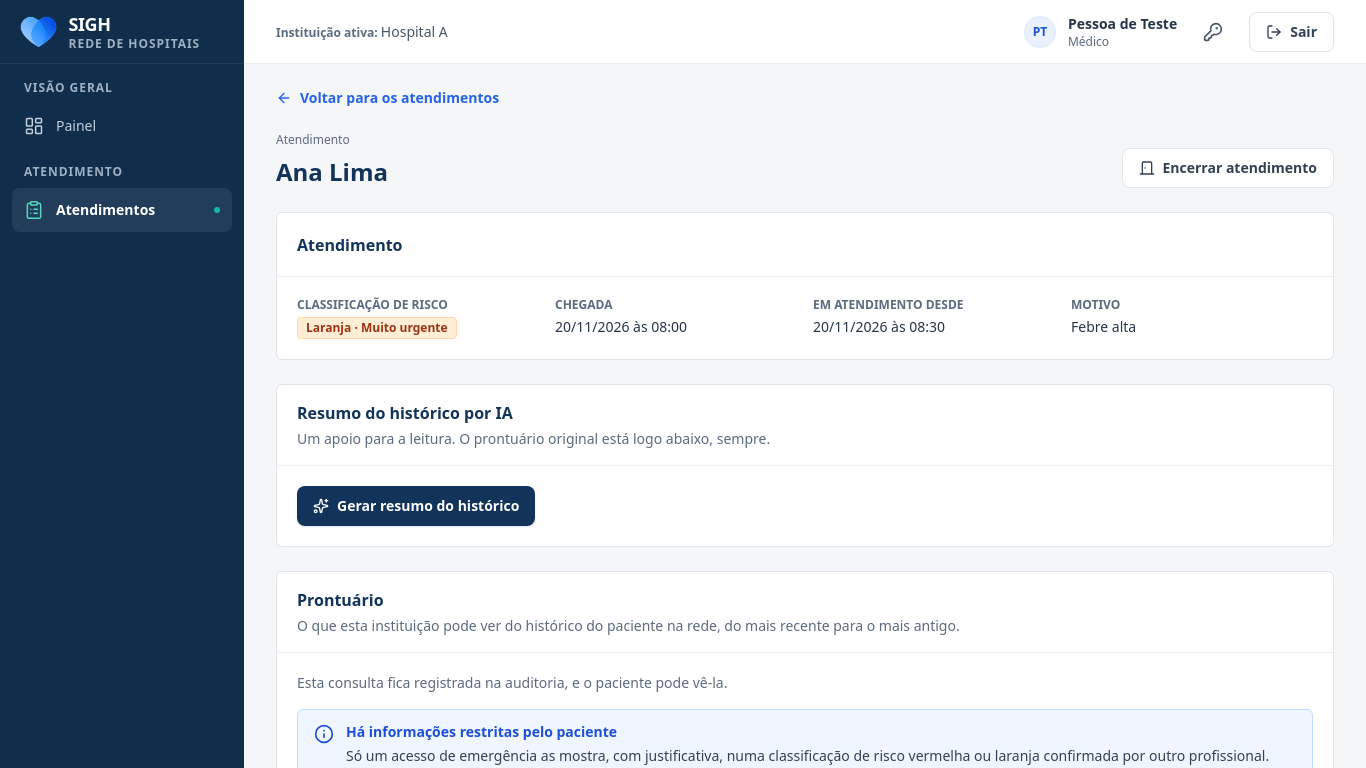
FE-07: resumo por IA (RF-004) › o resumo em Markdown aparece formatado, sem os asteriscos (FE-10)
Click the button "Gerar resumo do histórico": {"x": 416, "y": 506} [297, 486, 535, 526]
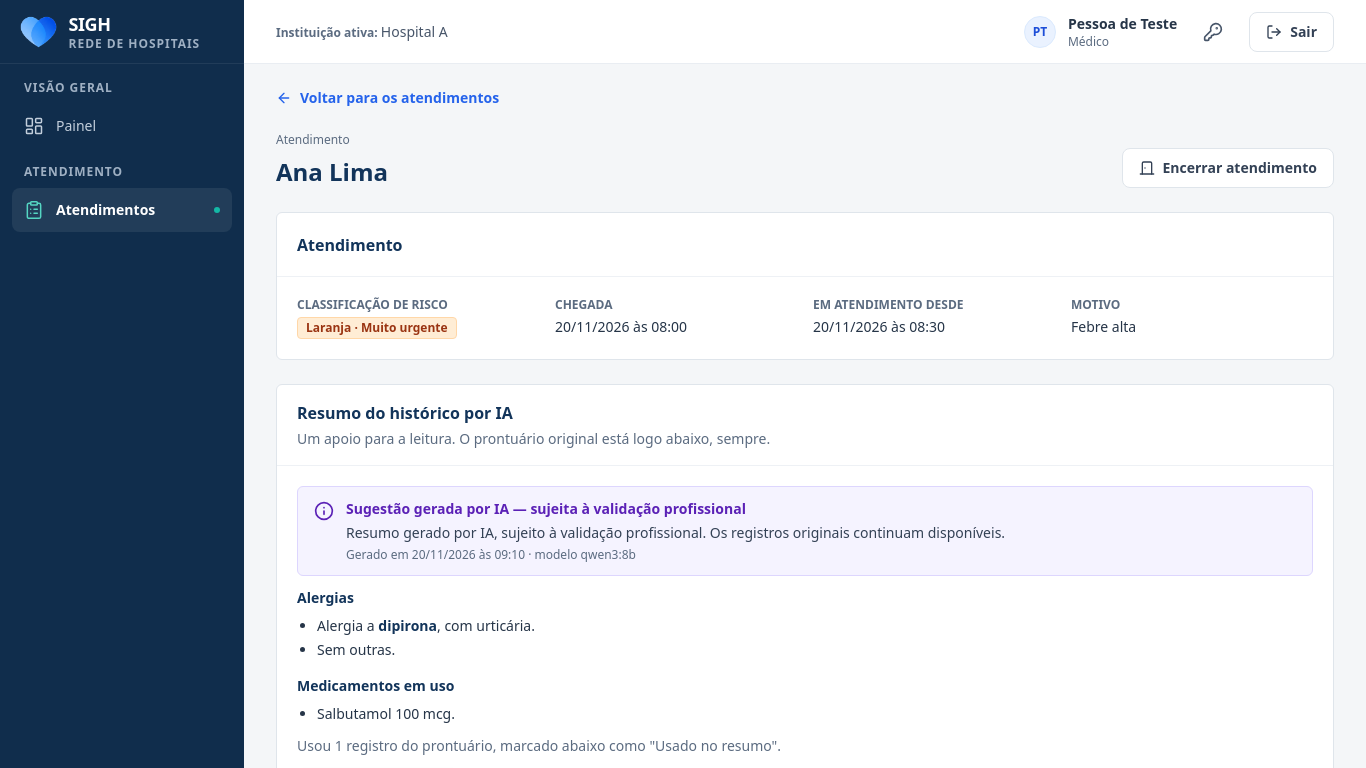
Expected: the text "Alergias" is shown, [297, 588, 354, 607]
Expected: the list items read "Alergia a dipirona, com urticária.", "Sem outras.", in this order, [317, 616, 535, 635]; [317, 640, 395, 659]
